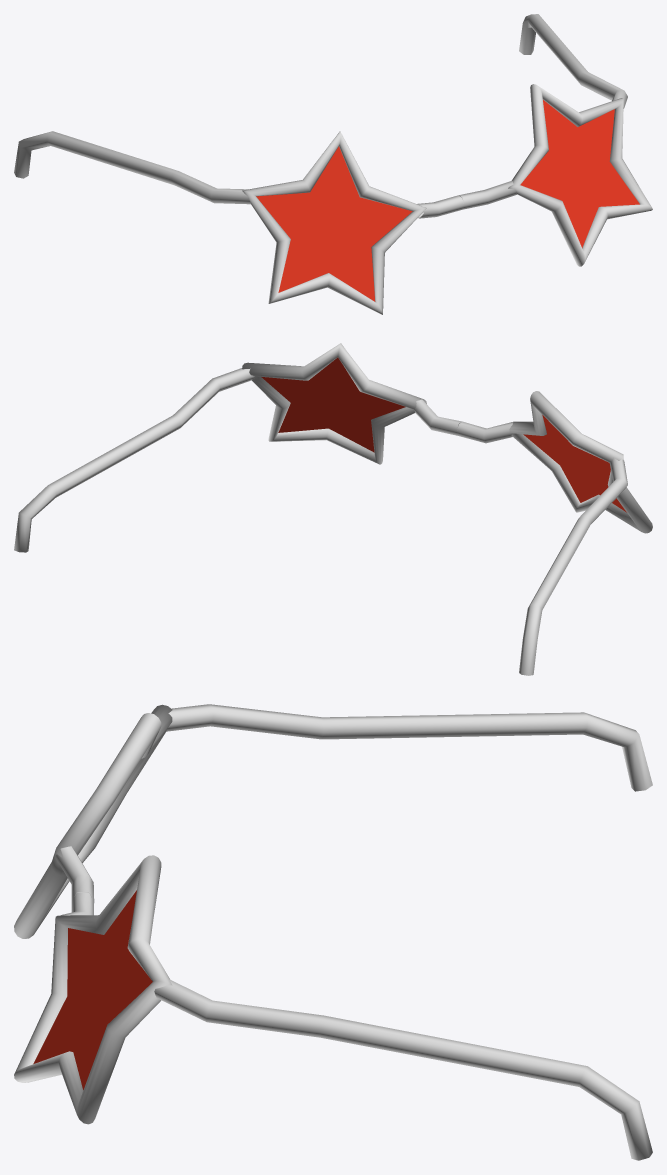
The model's file is glasses.fbx.
3 views of the same model, one above another, from view 1: azimuth 30°, elevation 25°; view 2: azimuth 150°, elevation 25°; view 3: azimuth 270°, elevation 25° (orthographic). The views are drawn at different scales.
Visible parts, largest first — view 1: Plane.001, Plane.002, Plane; view 2: Plane.002, Plane, Plane.001; view 3: Plane, Plane.002, Plane.001.
Boxes of the visible parts, x1,y1,x2,y2 form: Plane.001: [256, 100, 639, 301]; Plane.002: [242, 84, 652, 314]; Plane: [14, 14, 627, 218]; Plane.002: [242, 343, 652, 533]; Plane: [14, 368, 627, 675]; Plane.001: [261, 357, 626, 512]; Plane: [55, 704, 652, 1160]; Plane.002: [14, 704, 172, 1124]; Plane.001: [33, 890, 152, 1089].
Bounding box in the file's own units: 87.43 × 24.46 × 62.45.
